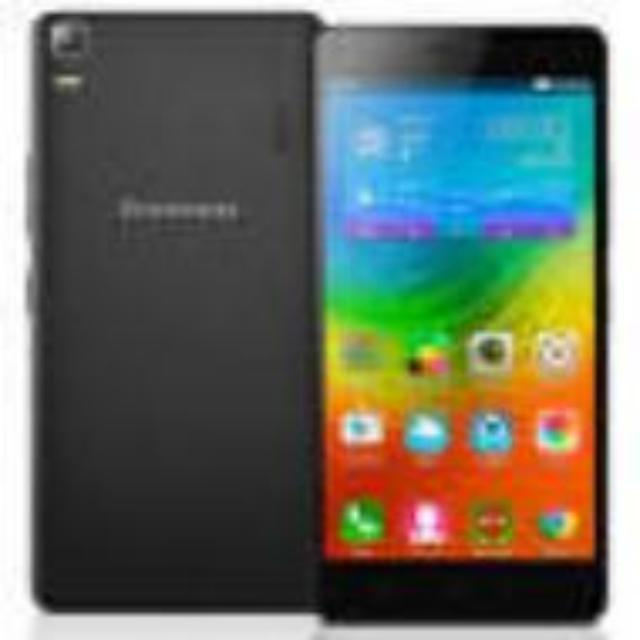phone: (25, 19, 318, 624), (316, 24, 604, 628)
